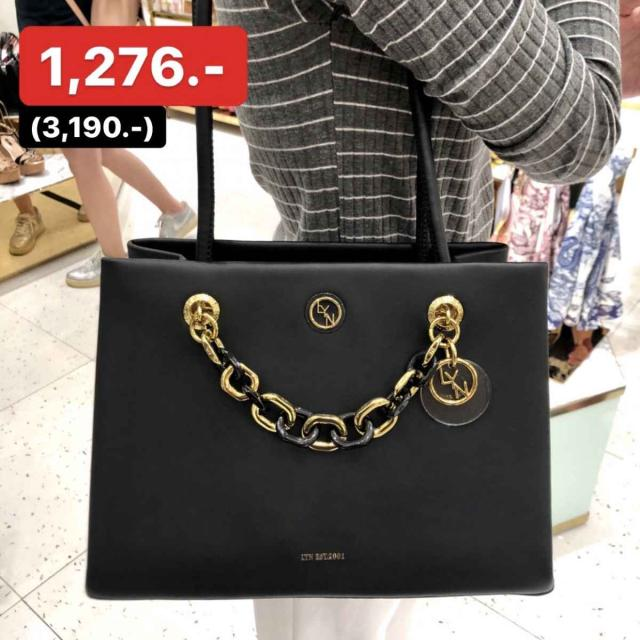handbag: (83, 235, 555, 599)
